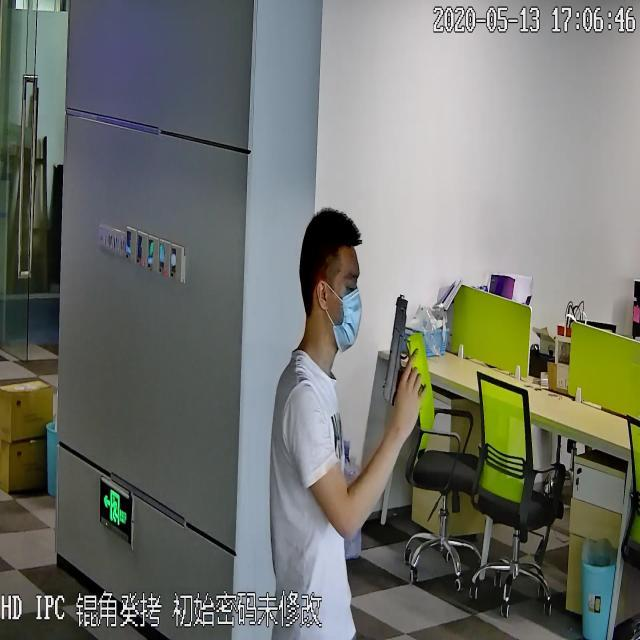gun: (381, 286, 427, 408)
